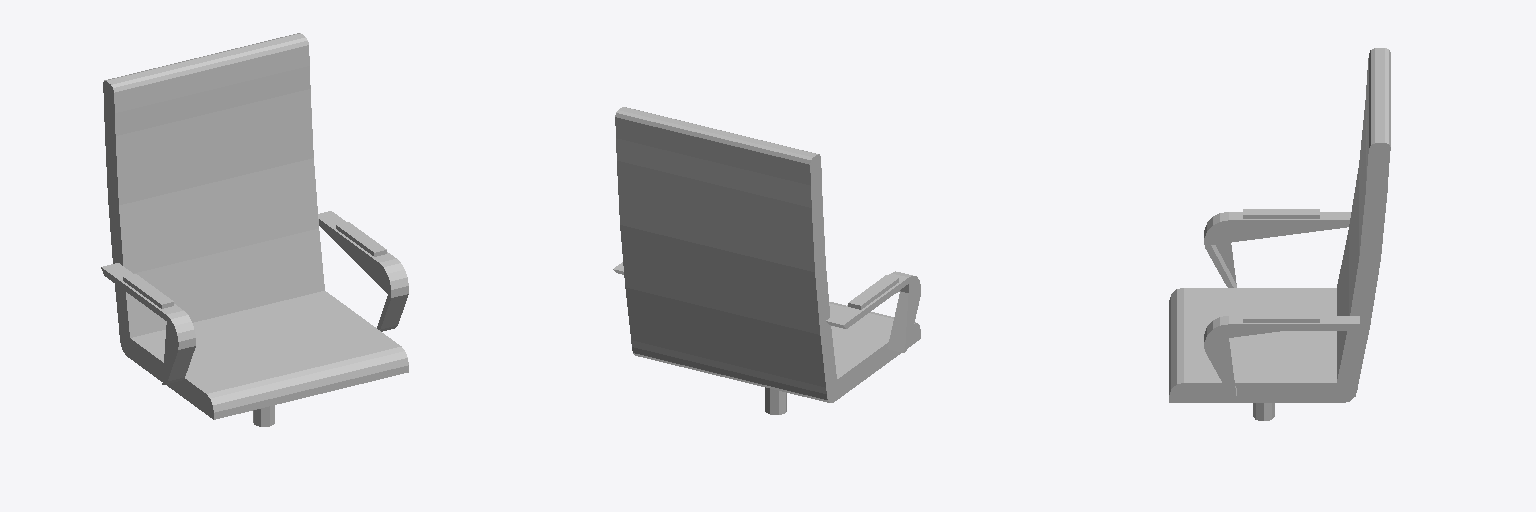
File: Chair_Office_Base_C.obj
3 views of the same model, side by side, from view 1: azimuth 30°, elevation 25°; view 2: azimuth 150°, elevation 25°; view 3: azimuth 270°, elevation 25° (orthographic).
Visible parts, largest first — view 1: Chair_Office_Base_C; view 2: Chair_Office_Base_C; view 3: Chair_Office_Base_C.
Part boxes in pixels (x1,y1,x2,y2): Chair_Office_Base_C: (101,33,408,426); Chair_Office_Base_C: (613,107,920,414); Chair_Office_Base_C: (1169,48,1390,420).
Bounding box in the file's own units: 0.7164 × 0.9542 × 0.5961.